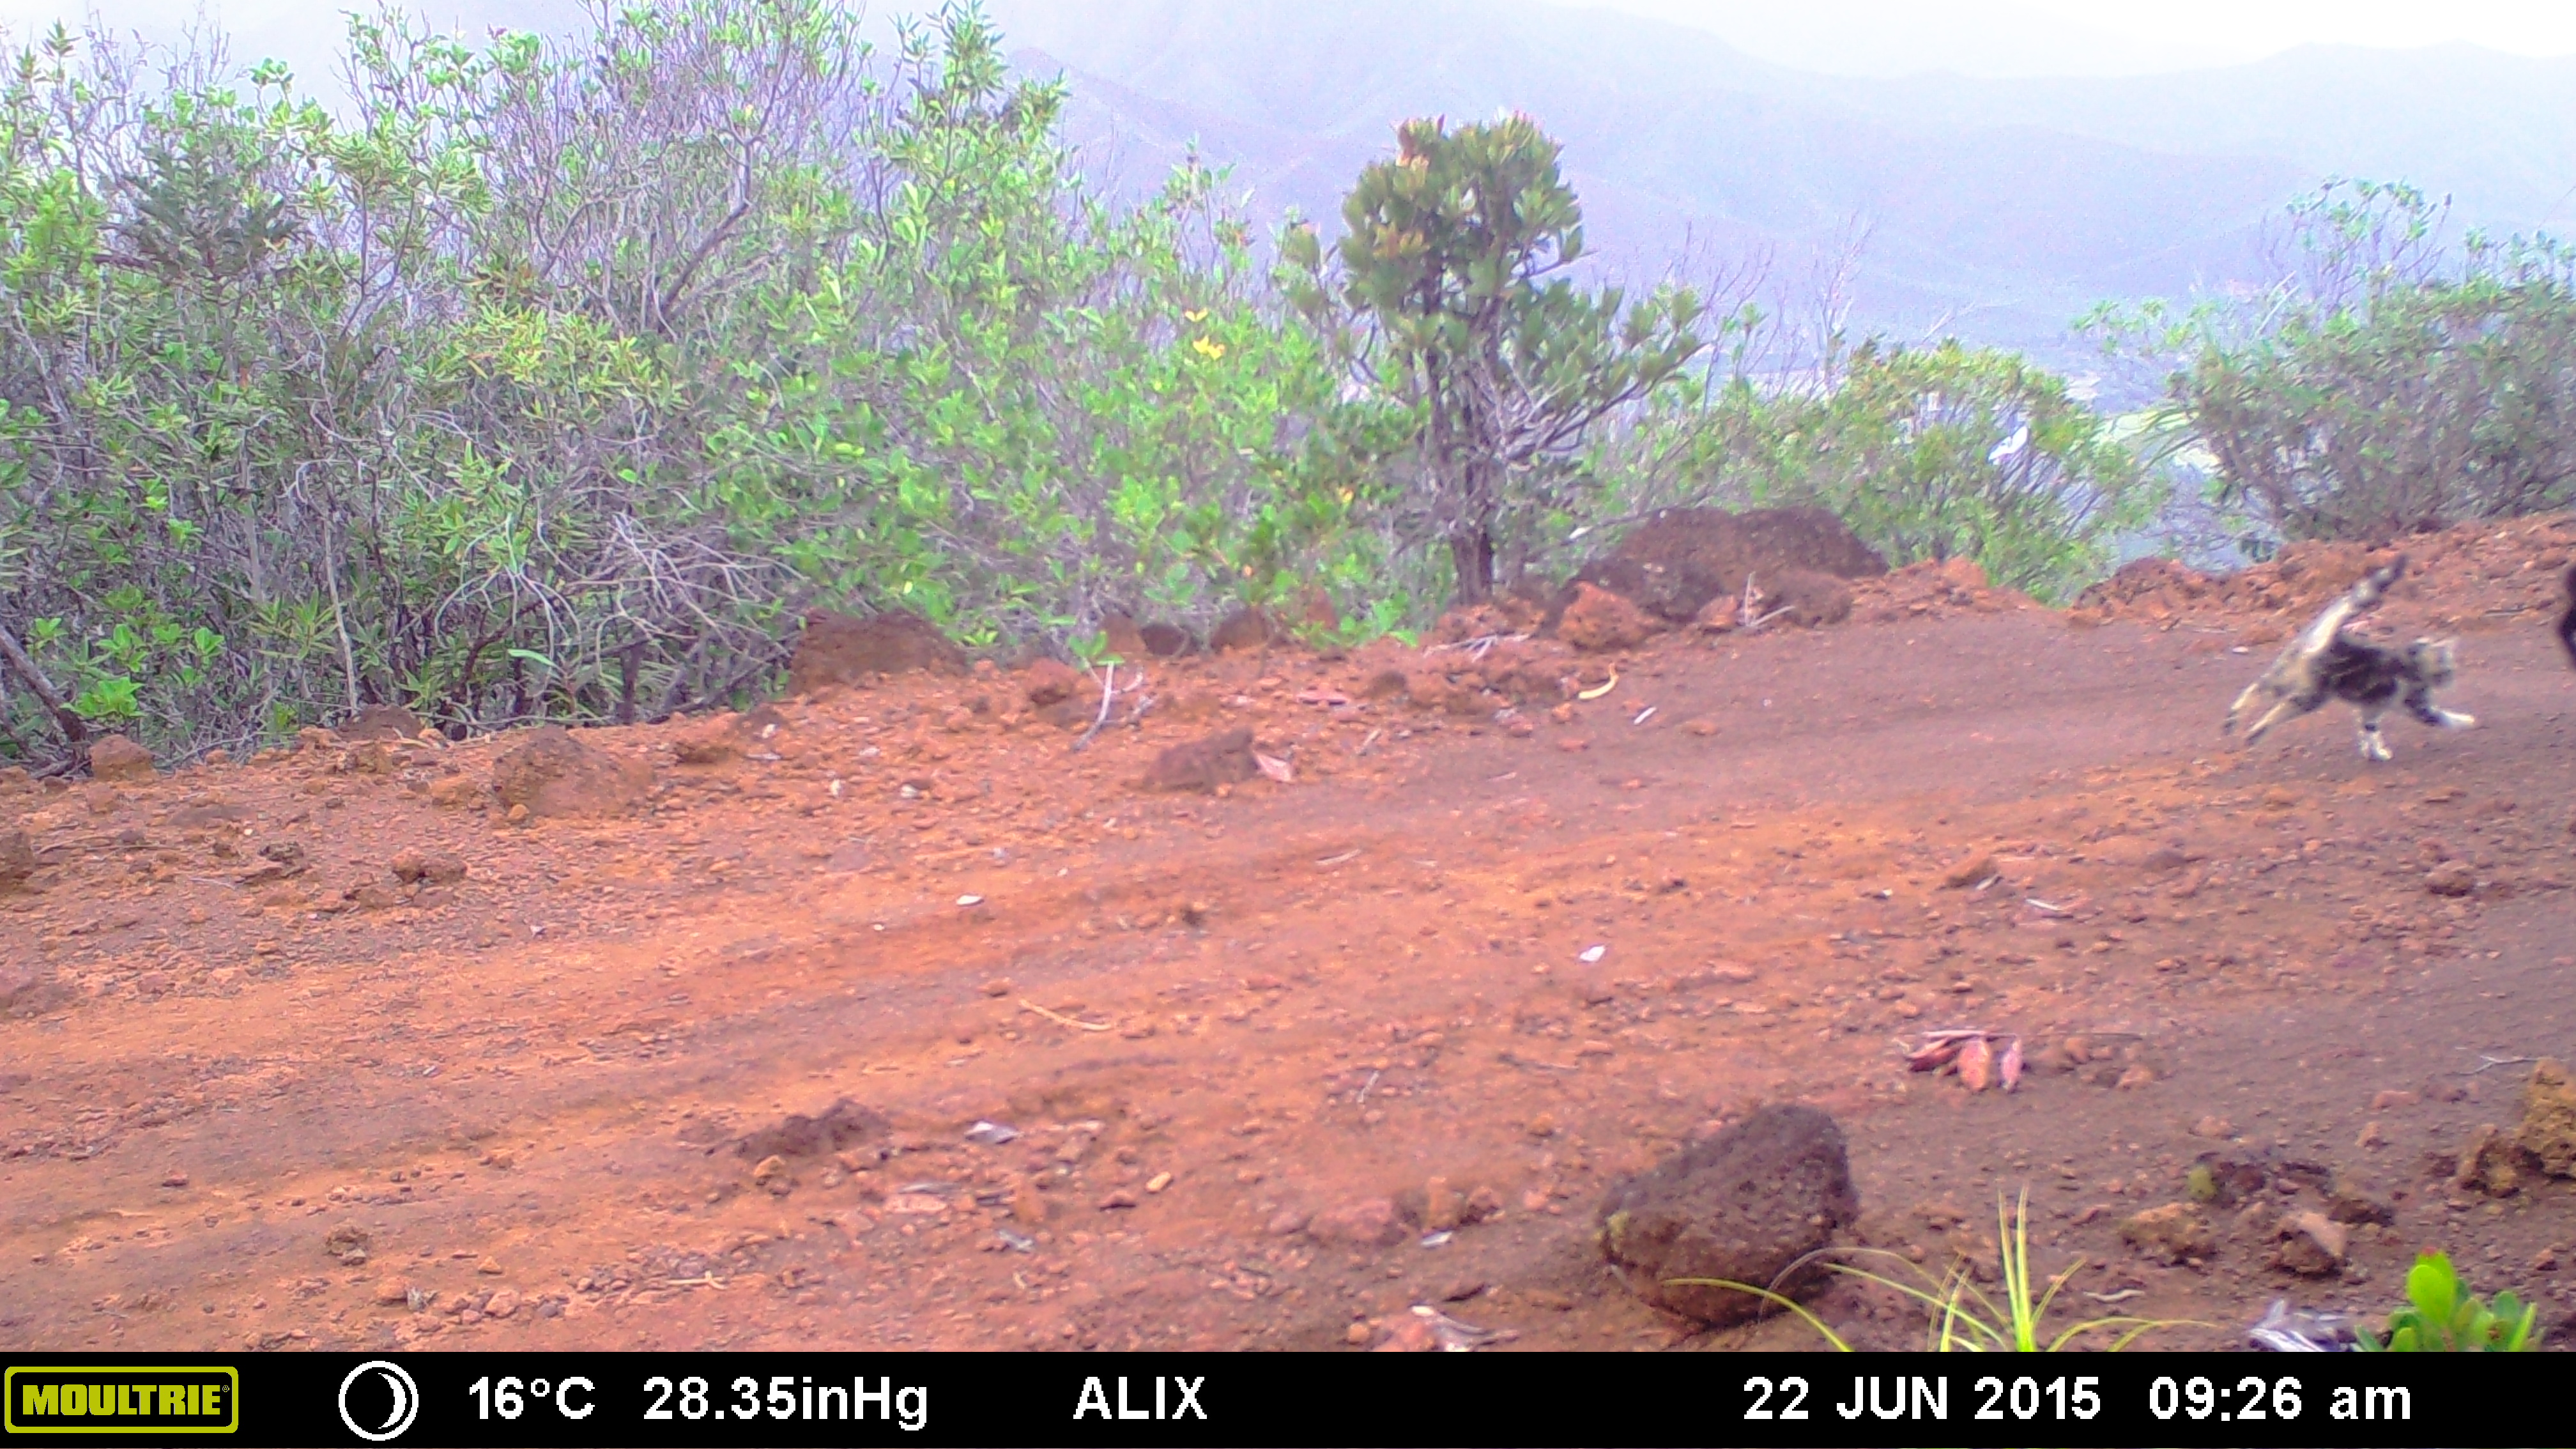cat: (2208, 556, 2488, 782)
